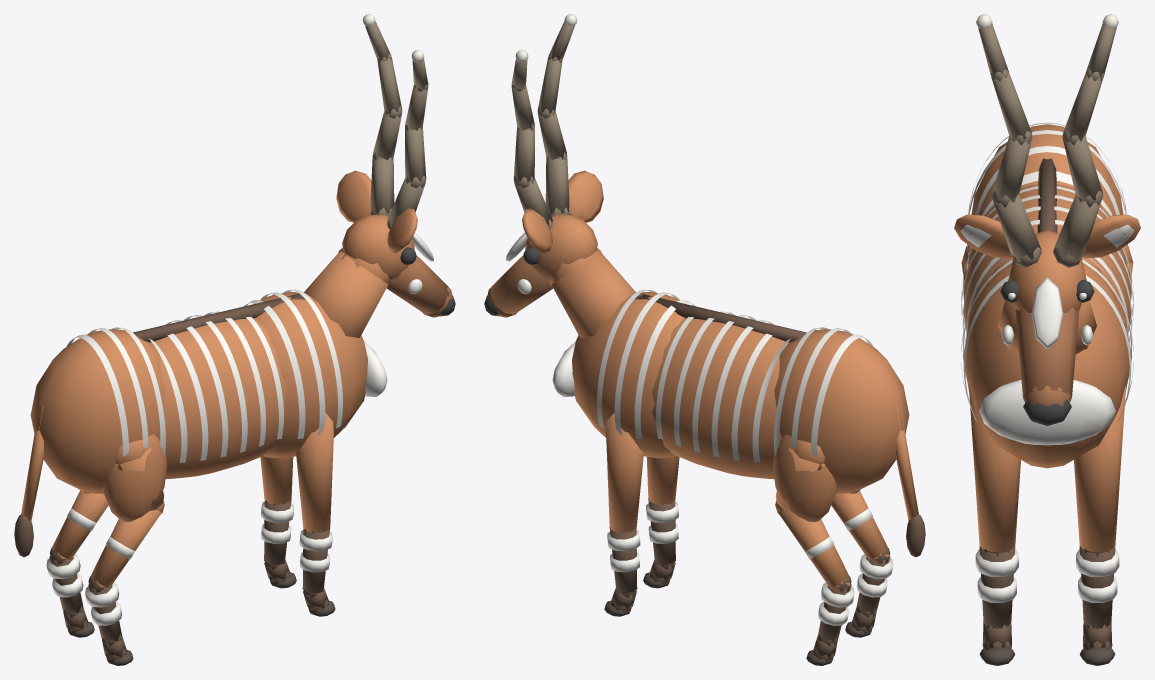
File: mountain-bongo.glb
3 views of the same model, side by side, from view 1: azimuth 30°, elevation 25°; view 2: azimuth 150°, elevation 25°; view 3: azimuth 270°, elevation 25° (orthographic). The views are drawn at different scales.
Visible parts, largest first — view 1: band, e.042, e.013, e.006, e.030, e.023, e.075; view 2: band, e.042, e.030, e.023, e.013, e.006, e.075; view 3: band, e.042, e.006, e.023.
Boxes of the visible parts, x1,y1,x2,y2 form: band: [30, 248, 390, 493]; e.042: [336, 14, 455, 317]; e.013: [85, 434, 166, 665]; e.006: [296, 413, 335, 616]; e.030: [46, 489, 108, 637]; e.023: [260, 456, 296, 588]; e.075: [14, 403, 44, 557]; band: [549, 248, 909, 493]; e.042: [484, 14, 603, 317]; e.030: [773, 434, 854, 665]; e.023: [604, 413, 643, 616]; e.013: [831, 489, 893, 637]; e.006: [643, 456, 679, 588]; e.075: [895, 403, 925, 557]; band: [961, 122, 1133, 468]; e.042: [954, 14, 1140, 425]; e.006: [968, 385, 1020, 665]; e.023: [1074, 385, 1126, 665].
Bounding box in the file's own units: 1.24 × 1.48 × 0.3548.
